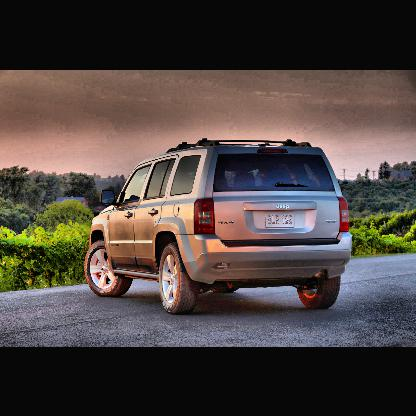Jeep Patriot SUV 2012: (83, 136, 356, 316)
